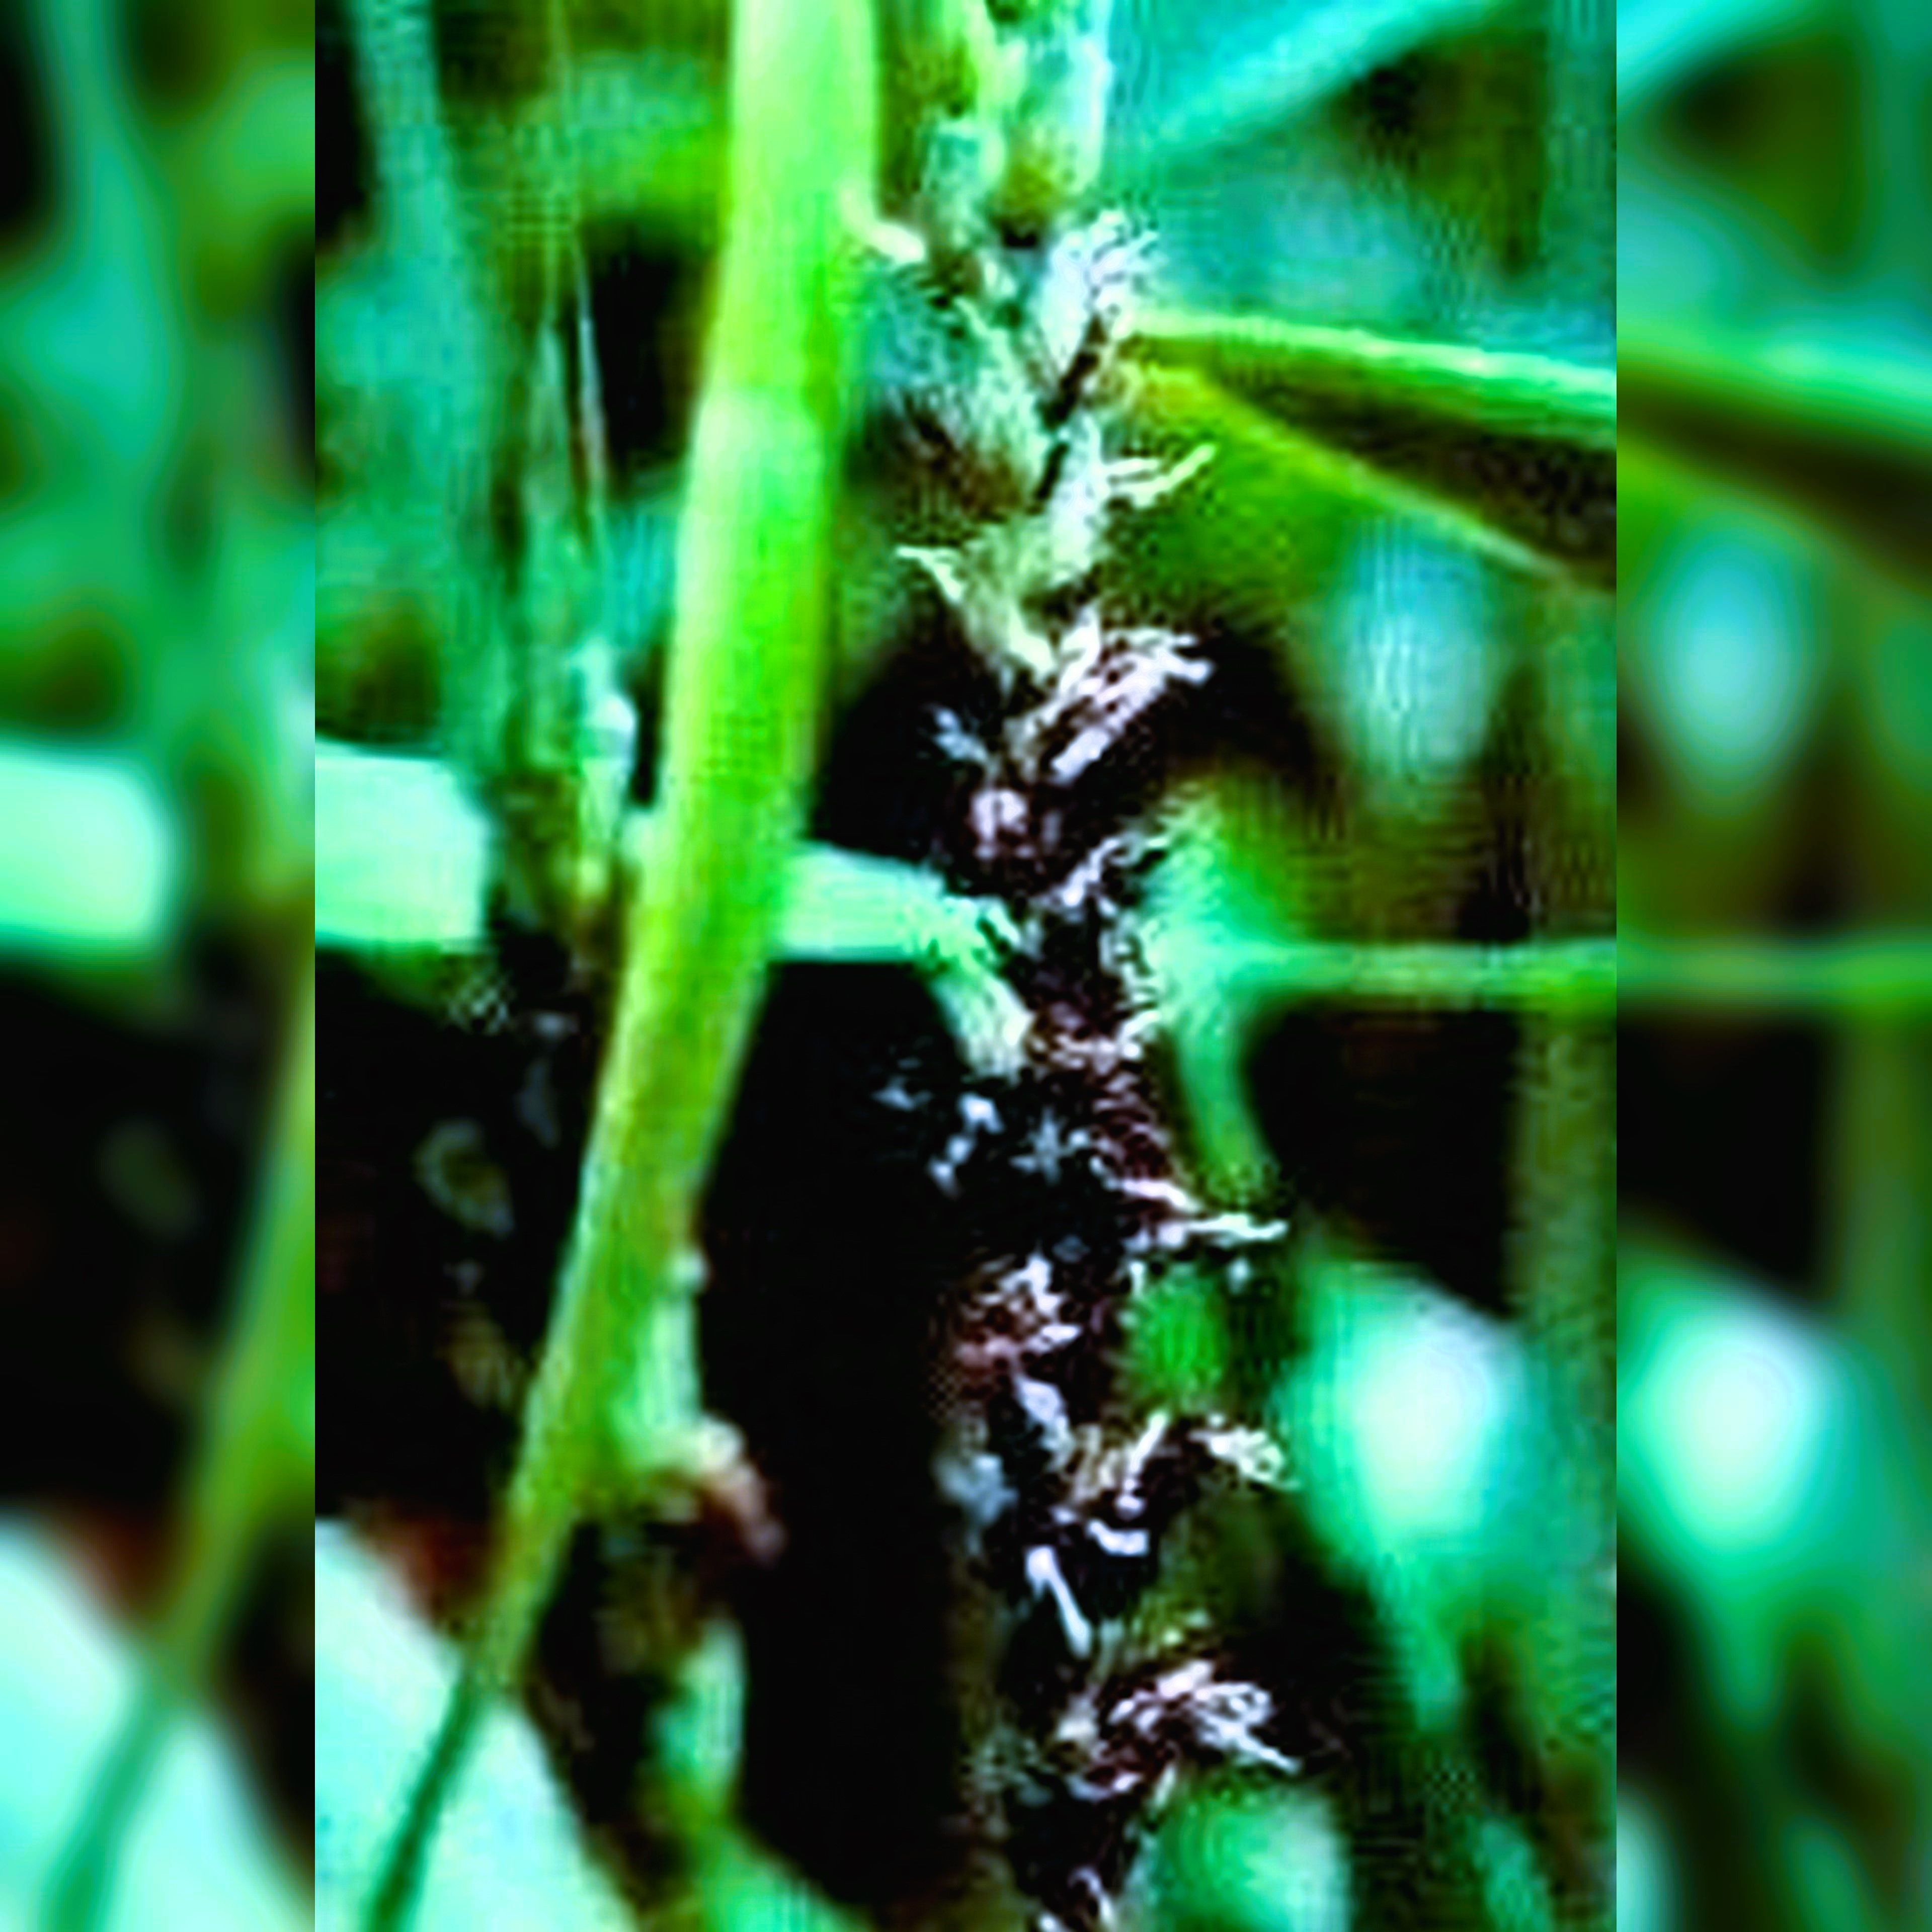Wheat Loose Smut: (856, 695, 1325, 1844)
